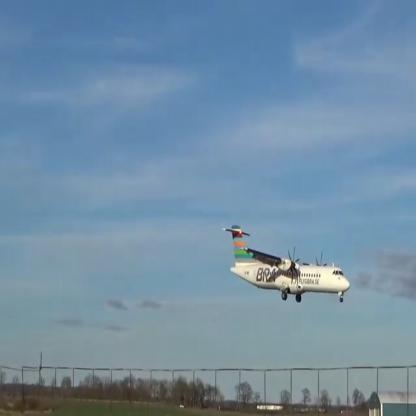CIV_Plane: (223, 224, 354, 303)
